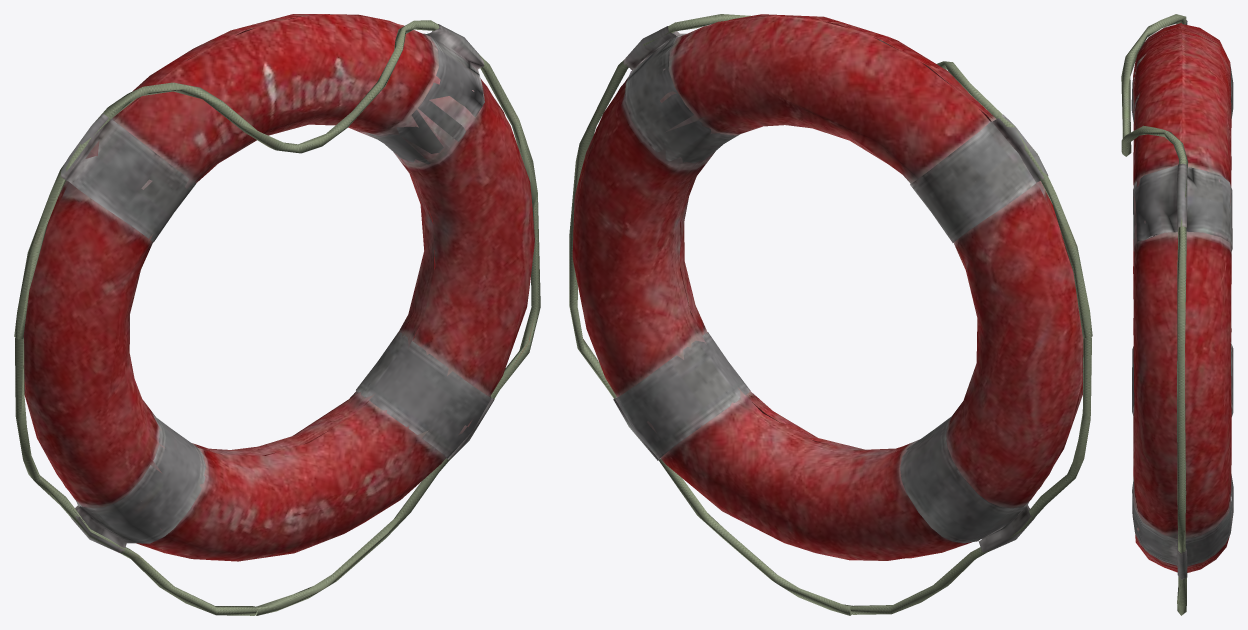
The model's file is lifebuoy.glb.
3 views of the same model, side by side, from view 1: azimuth 30°, elevation 25°; view 2: azimuth 150°, elevation 25°; view 3: azimuth 270°, elevation 25° (orthographic). The views are drawn at different scales.
Parts seen in each view (by area): view 1: lifebuoy; view 2: lifebuoy; view 3: lifebuoy.
Boxes of the visible parts, bbox=[...] form: lifebuoy: bbox=[14, 14, 540, 615]; lifebuoy: bbox=[569, 14, 1092, 615]; lifebuoy: bbox=[1121, 14, 1233, 615].
Size of the model in its own units: 0.7848 by 0.8425 by 0.1546.
1 material, 1 textured.
